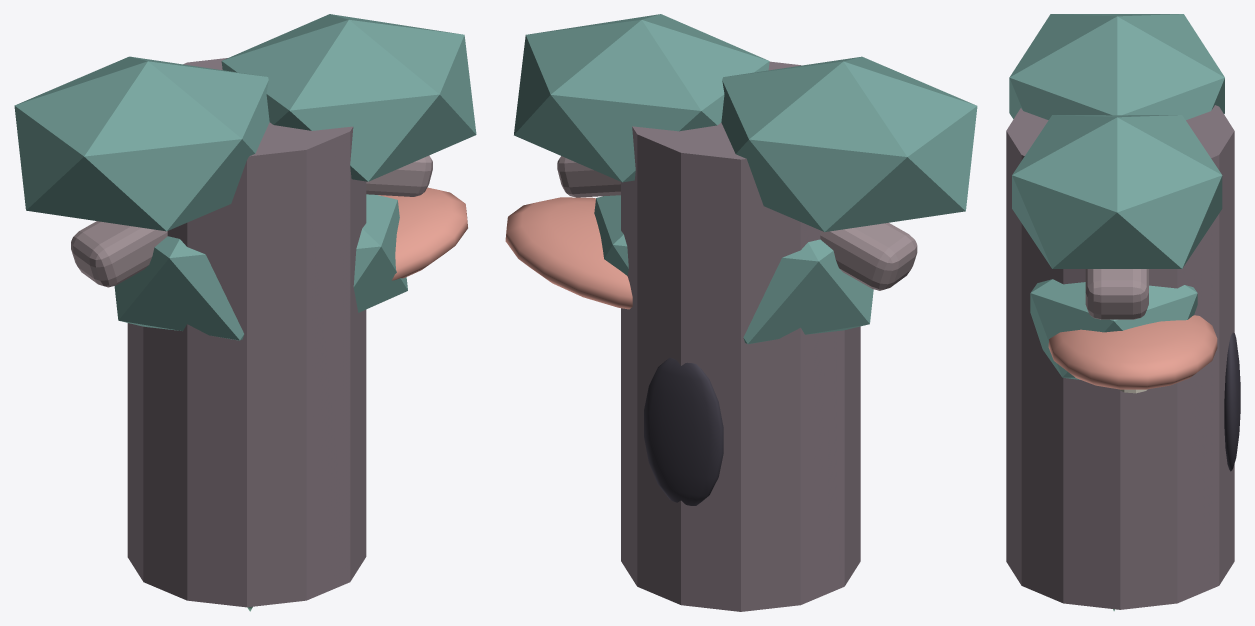
File: mushroom-forest-kit.glb
3 views of the same model, side by side, from view 1: azimuth 30°, elevation 25°; view 2: azimuth 150°, elevation 25°; view 3: azimuth 270°, elevation 25° (orthographic). The views are drawn at different scales.
Parts seen in each view (by area): view 1: Landmark_Trunk, Landmark_Crown_L, Landmark_Crown_R, DeepTree_CrownA, Landmark_ShelfCap, DeepTree_CrownB, Landmark_Branch_L, Landmark_Branch_R; view 2: Landmark_Trunk, Landmark_Crown_L, Landmark_Crown_R, Landmark_Hollow, Landmark_ShelfCap, DeepTree_CrownA, Landmark_Branch_L, DeepTree_CrownB, Landmark_Branch_R; view 3: Landmark_Trunk, Landmark_Crown_R, Landmark_Crown_L, Landmark_ShelfCap, DeepTree_CrownB, Landmark_Branch_R, Landmark_Hollow.
Boxes of the visible parts, bbox=[...] form: Landmark_Trunk: bbox=[127, 58, 366, 607]; Landmark_Crown_L: bbox=[14, 56, 269, 231]; Landmark_Crown_R: bbox=[221, 14, 476, 181]; DeepTree_CrownA: bbox=[114, 236, 244, 340]; Landmark_ShelfCap: bbox=[378, 187, 467, 280]; DeepTree_CrownB: bbox=[353, 194, 407, 312]; Landmark_Branch_L: bbox=[71, 221, 167, 287]; Landmark_Branch_R: bbox=[366, 155, 432, 196]; Landmark_Trunk: bbox=[621, 61, 860, 611]; Landmark_Crown_L: bbox=[721, 56, 977, 231]; Landmark_Crown_R: bbox=[514, 14, 769, 182]; Landmark_Hollow: bbox=[644, 357, 723, 505]; Landmark_ShelfCap: bbox=[505, 197, 632, 309]; DeepTree_CrownA: bbox=[743, 239, 873, 344]; Landmark_Branch_L: bbox=[820, 222, 917, 290]; DeepTree_CrownB: bbox=[594, 195, 628, 275]; Landmark_Branch_R: bbox=[557, 156, 620, 197]; Landmark_Trunk: bbox=[1006, 105, 1234, 609]; Landmark_Crown_R: bbox=[1012, 115, 1222, 268]; Landmark_Crown_L: bbox=[1009, 14, 1224, 119]; Landmark_ShelfCap: bbox=[1048, 315, 1217, 389]; DeepTree_CrownB: bbox=[1030, 279, 1197, 379]; Landmark_Branch_R: bbox=[1085, 269, 1148, 319]; Landmark_Hollow: bbox=[1224, 332, 1240, 471].
Bounding box in the file's own units: 3.07 × 3.82 × 1.48.
